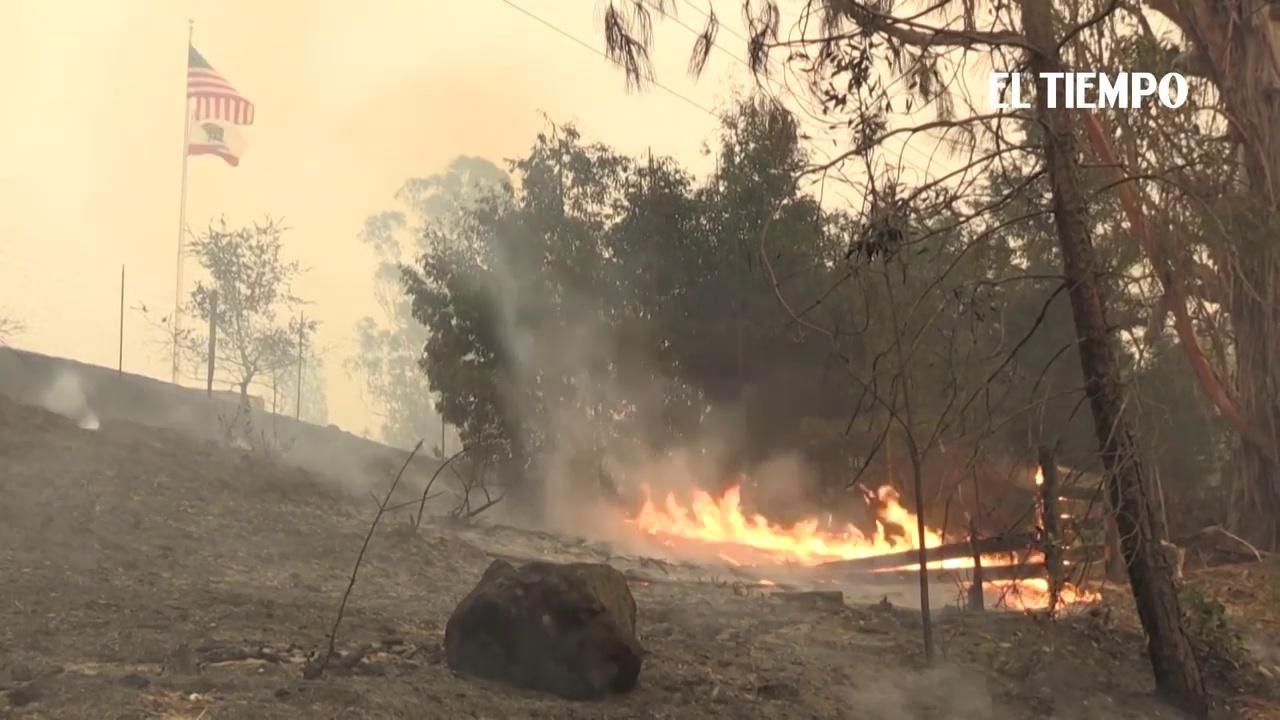Fire: (602, 468, 1003, 569), (986, 578, 1099, 609)
